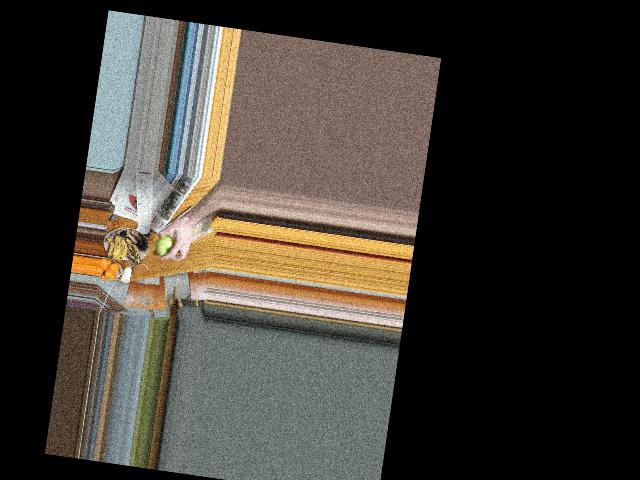apple: (154, 229, 181, 262)
